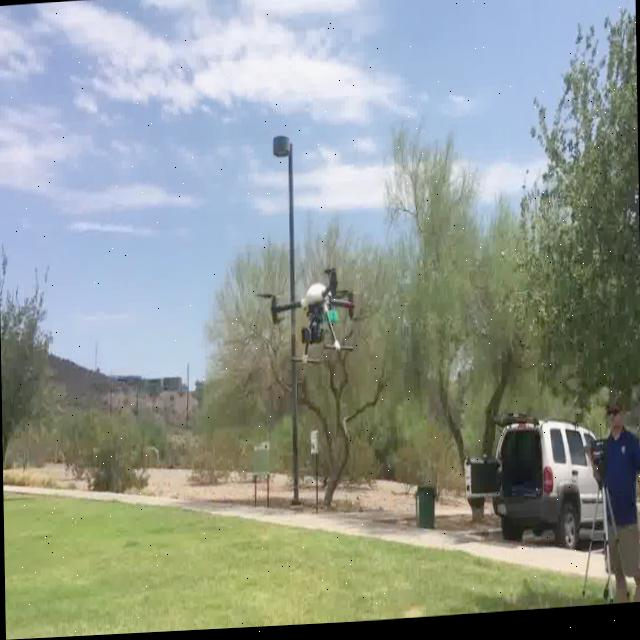drone: (258, 264, 358, 370)
